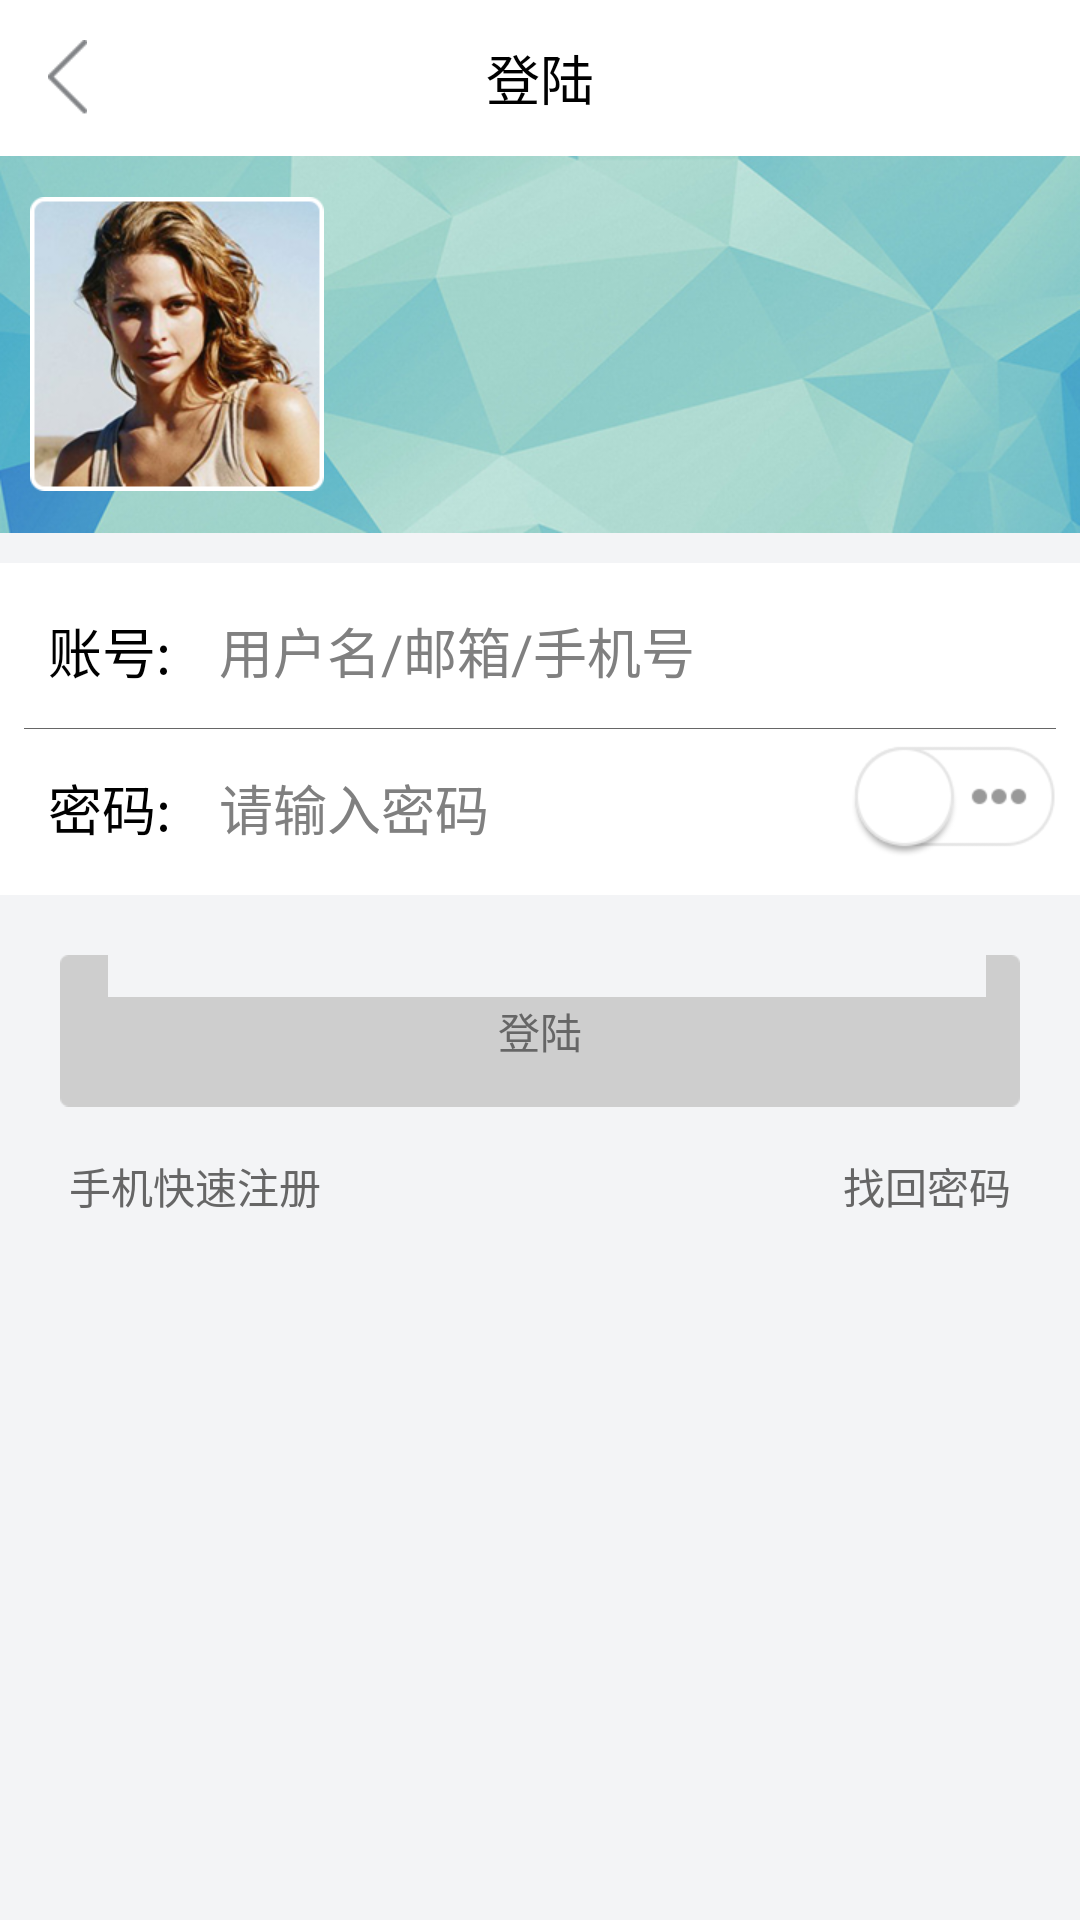

Locate icon controls on the screen. Image size 1080x1920, boxes as (x1=x1, y1=y1, x2=x2, y2=y2).
back: (x1=48, y1=40, x2=87, y2=114)
head: (x1=30, y1=197, x2=324, y2=491)
switch close: (x1=855, y1=748, x2=1054, y2=852)
